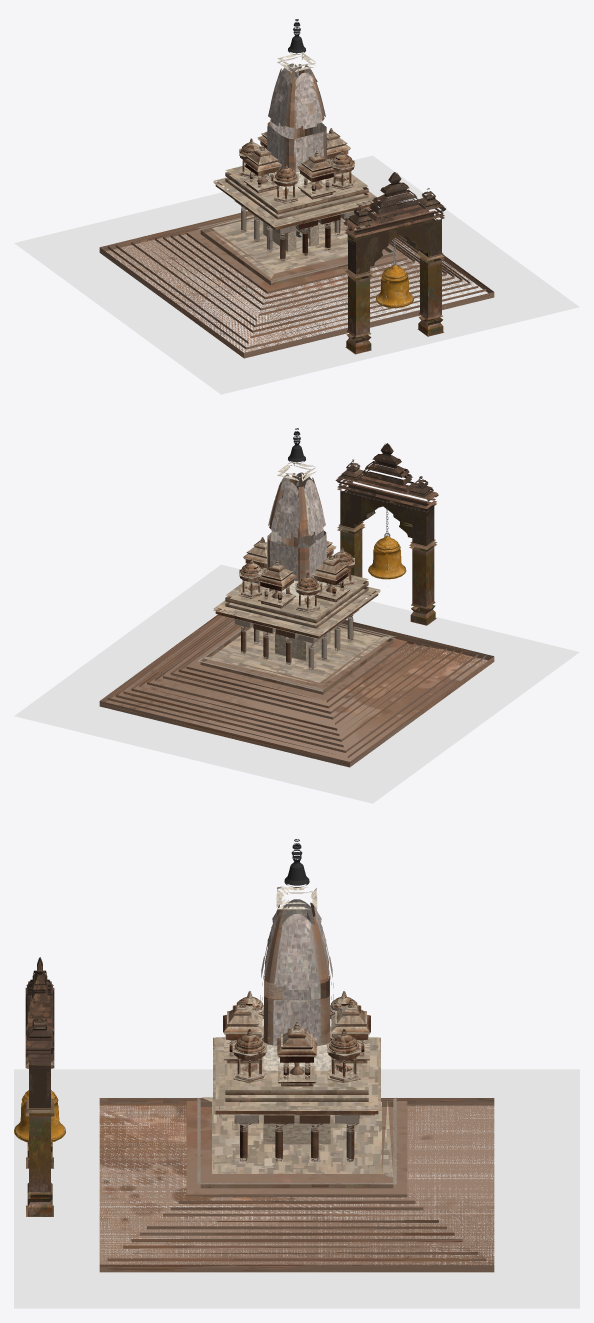
Rendered from temple.glb.
3 views of the same model, one above another, from view 1: azimuth 30°, elevation 25°; view 2: azimuth 150°, elevation 25°; view 3: azimuth 270°, elevation 25° (orthographic). The views are drawn at different scales.
Visible parts, largest first — view 1: Plane_16, Cube.012_9, floor_11, floor.003_12, Cube.002_17, Cube.003_18, Cube_3, Cube.007_5, pillar.001_14, Circle.008_2, pillar_13, Cube.005_20 (+6 smaller); view 2: Plane_16, Cube.012_9, floor_11, floor.003_12, Cube.003_18, Cube_3, Cube.002_17, Cube.007_5, pillar.001_14, pillar_13, Circle.008_2, Cube.008_6 (+6 smaller); view 3: Plane_16, Cube.012_9, floor_11, floor.003_12, Cube_3, Cube.008_6, pillar.001_14, Circle.001_0, Cube.002_17, pillar_13, Circle.008_2, Cube.001_4 (+6 smaller).
Part boxes in pixels (x1,y1,x2,y2): Plane_16: (14, 155, 579, 394); Cube.012_9: (99, 200, 494, 358); floor_11: (197, 214, 395, 285); floor.003_12: (213, 166, 379, 229); Cube.002_17: (345, 250, 444, 354); Cube.003_18: (348, 214, 441, 274); Cube_3: (267, 19, 329, 191); Cube.007_5: (270, 63, 323, 172); pillar.001_14: (239, 138, 354, 203); Circle.008_2: (243, 128, 350, 193); pillar_13: (234, 200, 358, 261); Cube.005_20: (367, 172, 424, 223); Plane_16: (14, 564, 579, 803); Cube.012_9: (99, 611, 494, 767); floor_11: (198, 623, 396, 694); floor.003_12: (213, 575, 380, 638); Cube.003_18: (340, 485, 434, 545); Cube_3: (264, 428, 326, 600); Cube.002_17: (337, 522, 436, 625); Cube.007_5: (270, 472, 323, 581); pillar.001_14: (239, 547, 354, 612); pillar_13: (234, 609, 359, 670); Circle.008_2: (243, 537, 350, 602); Cube.008_6: (267, 474, 326, 577); Plane_16: (14, 1069, 579, 1308); Cube.012_9: (99, 1098, 494, 1272); floor_11: (197, 1097, 396, 1188); floor.003_12: (213, 1026, 380, 1115); Cube_3: (263, 839, 330, 1070); Cube.008_6: (273, 899, 320, 1045); pillar.001_14: (232, 991, 361, 1083); Circle.001_0: (223, 999, 370, 1063); Cube.002_17: (25, 1060, 54, 1216); pillar_13: (234, 1115, 359, 1161); Circle.008_2: (277, 1022, 316, 1086); Cube.001_4: (263, 1115, 330, 1144).
Size of the model in its own units: 20.43 by 14.38 by 20.43.
22 materials, 18 textured.
